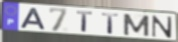7: (48, 6, 70, 33)
A: (19, 7, 47, 31)
M: (122, 13, 151, 38)
N: (151, 15, 174, 39)
T: (101, 12, 121, 35), (76, 11, 95, 34)
